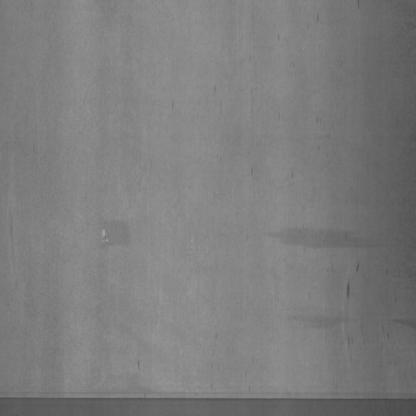welding_line: (2, 387, 416, 411)
